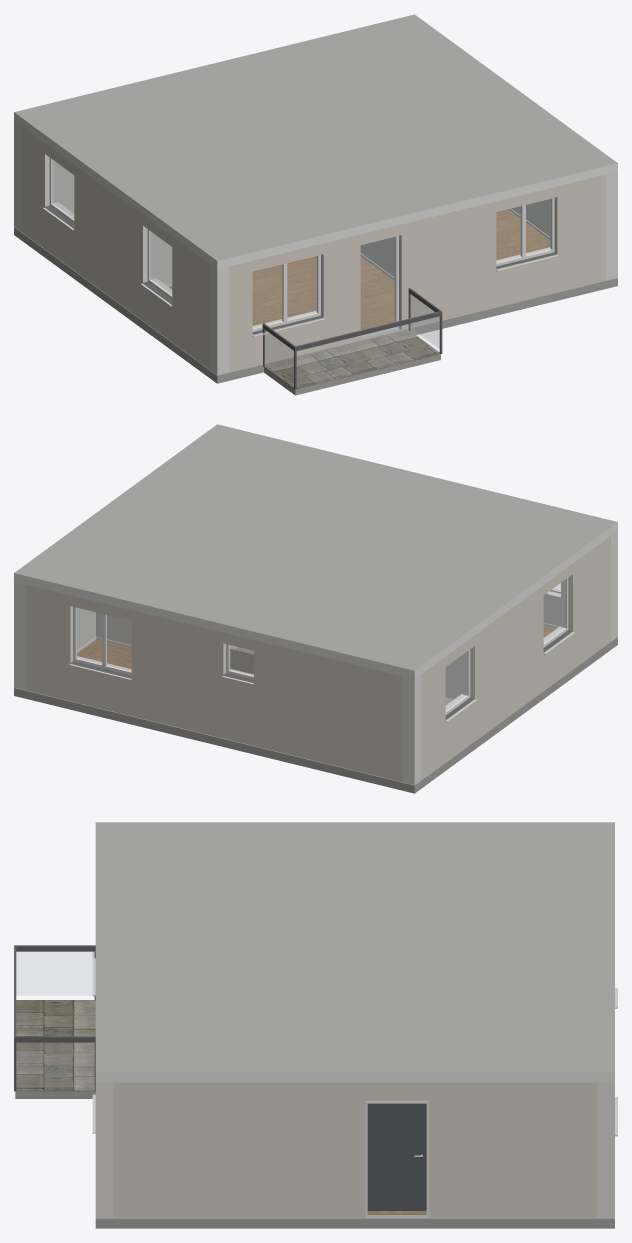
Rendered from wohnung_leer.glb.
3 renders of one model, top to bottom at view 1: azimuth 30°, elevation 25°; view 2: azimuth 150°, elevation 25°; view 3: azimuth 270°, elevation 25°, orthographic. The views are drawn at different scales.
Parts seen in each view (by area): view 1: Decke, Wand_aw_sued, Wand_aw_west, Gelaender_balkon, Boden_wohnen, Rohdecke_unten, Boden_balkon, window_aw_sued_1.60, window_aw_sued_7.50, balcony_door_aw_sued_3.90, Wand_aw_ost, Boden_schlafen (+6 smaller); view 2: Decke, Wand_aw_nord, Wand_aw_west, Rohdecke_unten, window_aw_nord_7.60, Wand_aw_ost, window_aw_west_2.40, window_aw_west_6.60, Wand_aw_sued, window_aw_nord_4.20, Boden_kind, Wand_iw_flur_nord (+2 smaller); view 3: Decke, Wand_aw_ost, Gelaender_balkon, entrance_aw_ost_4.90, Boden_balkon, Rohdecke_unten, Wand_aw_sued, Wand_aw_nord, Balkonplatte_balkon.
Part boxes in pixels (x1,y1,x2,y2): Decke: (14, 14, 617, 269); Wand_aw_sued: (210, 174, 605, 374); Wand_aw_west: (21, 126, 229, 375); Gelaender_balkon: (262, 288, 442, 389); Boden_wohnen: (169, 256, 394, 330); Rohdecke_unten: (14, 227, 617, 383); Boden_balkon: (264, 330, 440, 388); window_aw_sued_1.60: (252, 255, 324, 337); window_aw_sued_7.50: (496, 198, 558, 271); balcony_door_aw_sued_3.90: (360, 236, 398, 337); Wand_aw_ost: (511, 171, 617, 280); Boden_schlafen: (496, 209, 550, 260); Decke: (14, 424, 617, 679); Wand_aw_nord: (26, 584, 421, 784); Wand_aw_west: (402, 536, 610, 784); Rohdecke_unten: (14, 636, 617, 793); window_aw_nord_7.60: (69, 606, 131, 680); Wand_aw_ost: (14, 581, 95, 690); window_aw_west_2.40: (543, 578, 574, 654); window_aw_west_6.60: (445, 649, 476, 722); Wand_aw_sued: (543, 531, 617, 641); window_aw_nord_4.20: (222, 644, 253, 684); Boden_kind: (77, 639, 131, 668); Wand_iw_flur_nord: (96, 612, 131, 645); Decke: (95, 822, 614, 1082); Wand_aw_ost: (113, 1082, 596, 1217); Gelaender_balkon: (14, 945, 95, 1091); entrance_aw_ost_4.90: (365, 1101, 428, 1218); Boden_balkon: (16, 1000, 95, 1091); Rohdecke_unten: (95, 1214, 614, 1228); Wand_aw_sued: (95, 1082, 113, 1217); Wand_aw_nord: (597, 1082, 614, 1217); Balkonplatte_balkon: (15, 1091, 95, 1098).
Bounding box in the file's own units: 9.96 × 2.9 × 10.12.
18 materials, 5 textured.
